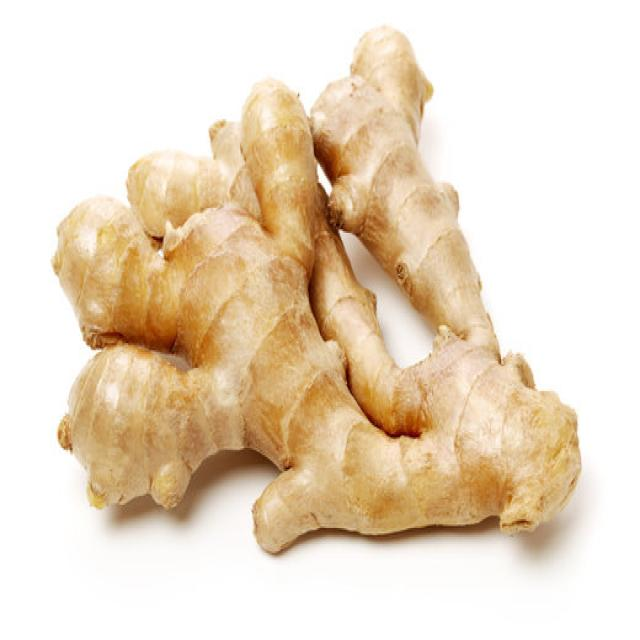Ginger: (54, 24, 585, 554)
